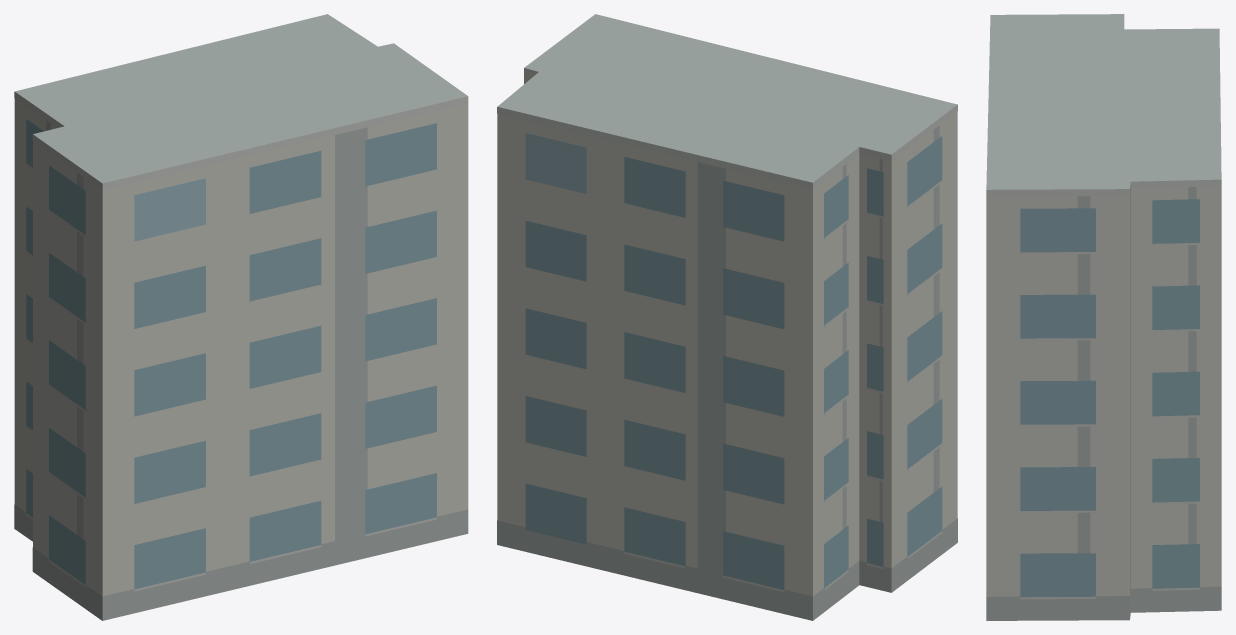
The model's file is survey-upis-32460078.glb.
3 renders of one model, left to right at view 1: azimuth 30°, elevation 25°; view 2: azimuth 150°, elevation 25°; view 3: azimuth 270°, elevation 25°, orthographic.
Parts seen in each view (by area): view 1: survey-upis-32460078.tmp; view 2: survey-upis-32460078.tmp; view 3: survey-upis-32460078.tmp.
Part boxes in pixels (bbox=[...]): survey-upis-32460078.tmp: bbox=[14, 14, 468, 620]; survey-upis-32460078.tmp: bbox=[497, 14, 957, 620]; survey-upis-32460078.tmp: bbox=[986, 14, 1221, 620].
Bounding box in the file's own units: 13.35 × 15.25 × 7.55.
